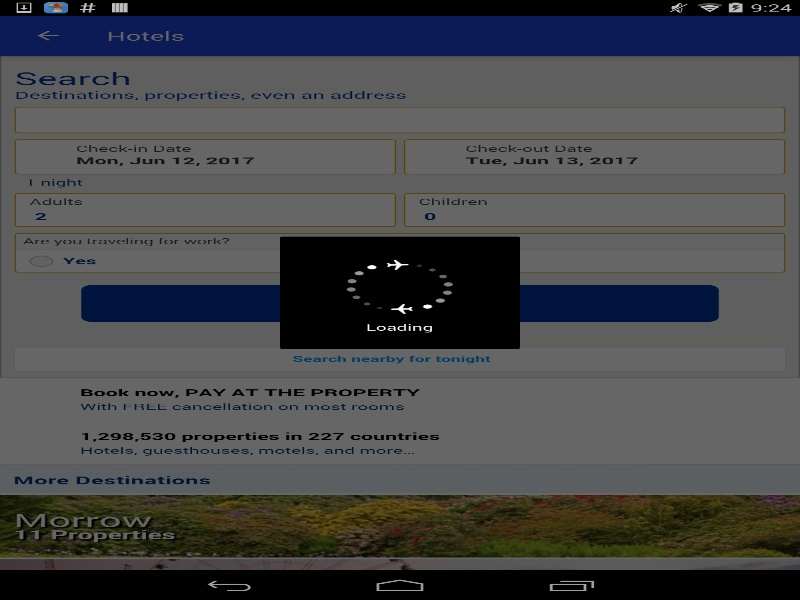Button: (81, 285, 720, 321), (14, 347, 785, 370), (29, 207, 557, 221), (10, 15, 85, 55), (734, 106, 785, 132)
Input: (14, 106, 785, 132)
